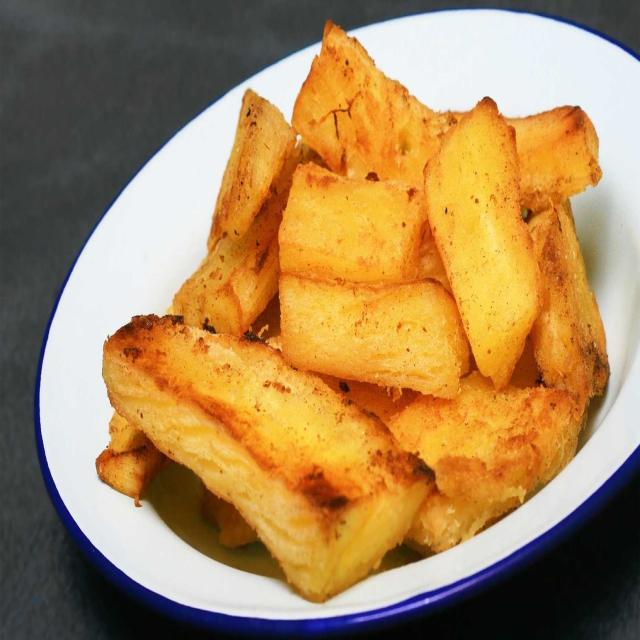yuca: (101, 307, 434, 609), (412, 78, 550, 400), (203, 76, 307, 271)
